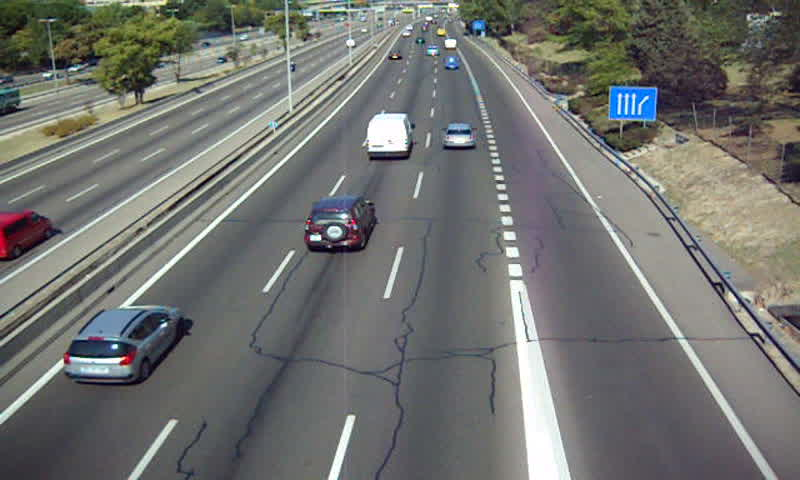car: (62, 305, 181, 385), (305, 197, 375, 251), (442, 124, 476, 150), (444, 55, 462, 72)
van: (367, 114, 414, 159)
